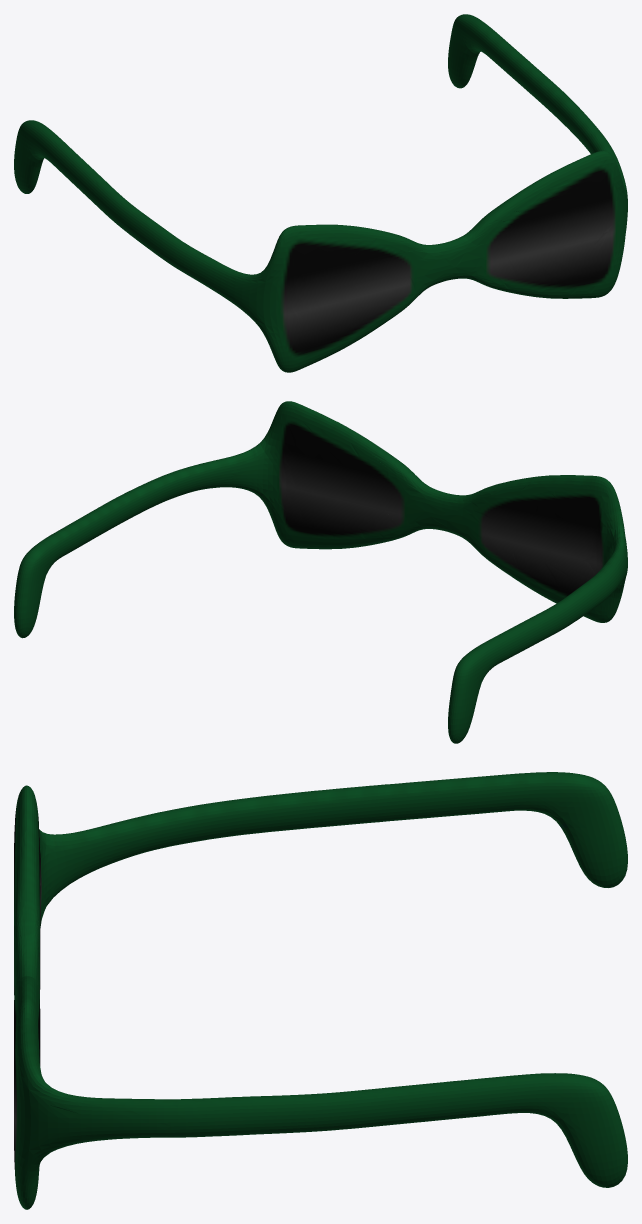
The model's file is mhw_culturalibre_doc_ock_glasses.glb.
3 views of the same model, one above another, from view 1: azimuth 30°, elevation 25°; view 2: azimuth 150°, elevation 25°; view 3: azimuth 270°, elevation 25° (orthographic). The views are drawn at different scales.
Parts seen in each view (by area): view 1: mhw_culturalibre_doc_ock_glasses; view 2: mhw_culturalibre_doc_ock_glasses; view 3: mhw_culturalibre_doc_ock_glasses.
Part boxes in pixels (x1,y1,x2,y2): mhw_culturalibre_doc_ock_glasses: (14,14,627,372); mhw_culturalibre_doc_ock_glasses: (14,401,627,743); mhw_culturalibre_doc_ock_glasses: (14,772,627,1209).
Bounding box in the file's own units: 0.1727 × 0.0526 × 0.142.
1 material, 1 textured.
